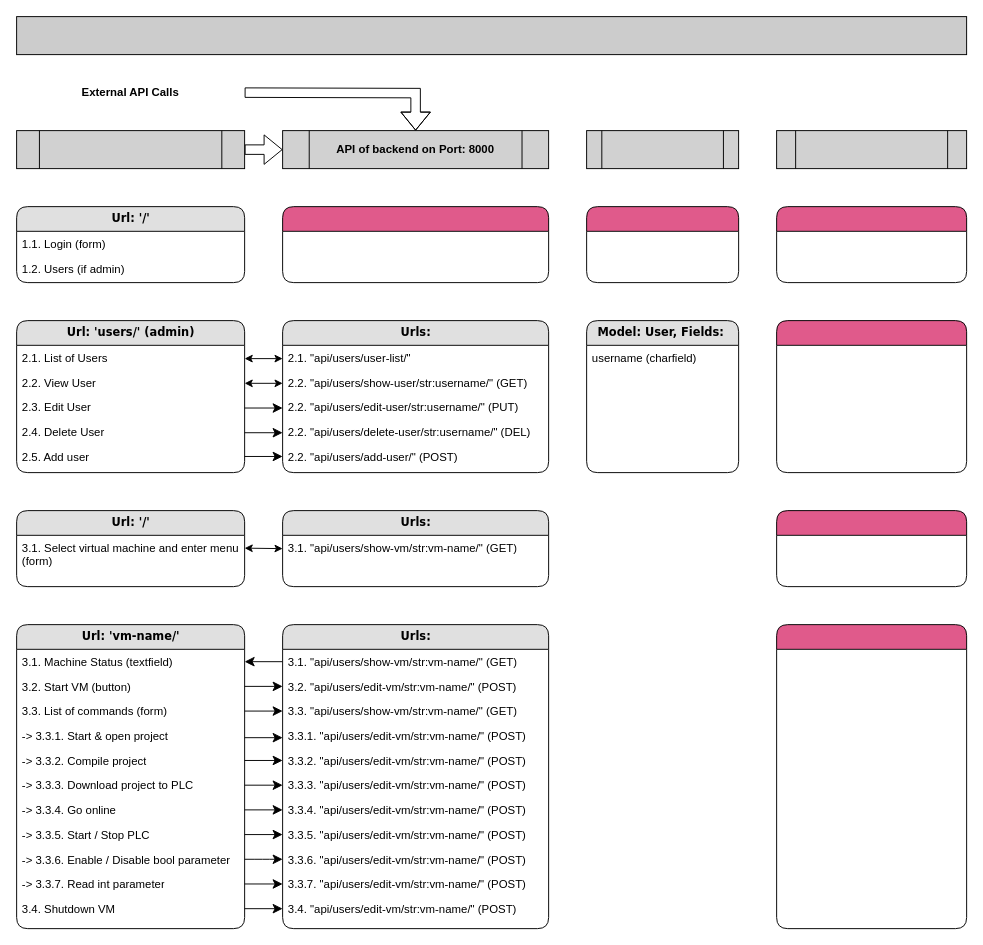
Some shapes in this 983 by 945 pixel diagram are drawn without their labels. The centre of each missing label's shape, as x and y in pixels:
API Server on a LAB PC Backend: Django, DB: PostgreSQL, Frontend: React.js: point (491, 35)
Integration with "VM Controller" App: point (871, 149)
PostgreSQL (using Django ORM): point (662, 149)
React user interface on Port: 3000: point (130, 149)
